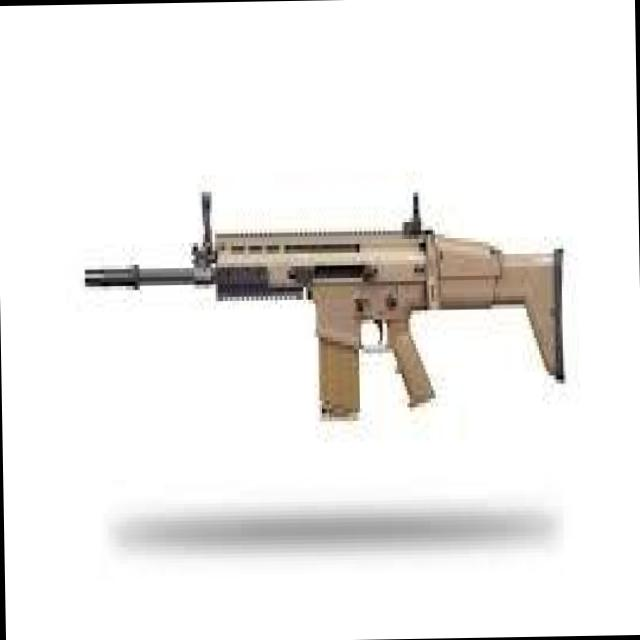Gun: (80, 178, 603, 442)
